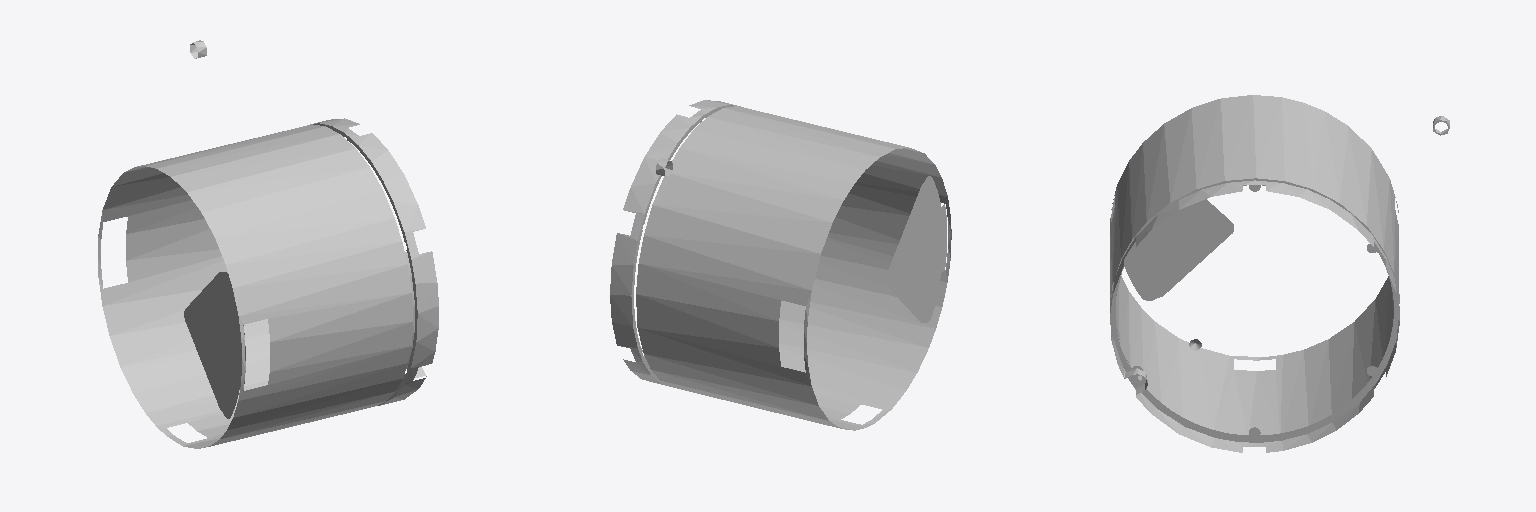
3 views of the same model, side by side, from view 1: azimuth 30°, elevation 25°; view 2: azimuth 150°, elevation 25°; view 3: azimuth 270°, elevation 25° (orthographic).
Parts seen in each view (by area): view 1: link5_0; view 2: link5_0; view 3: link5_0.
Boxes of the visible parts, <box> form: link5_0: <box>98,40,438,448</box>; link5_0: <box>610,100,951,430</box>; link5_0: <box>1110,95,1449,452</box>.
Bounding box in the file's own units: 44.92 × 65.04 × 67.05.